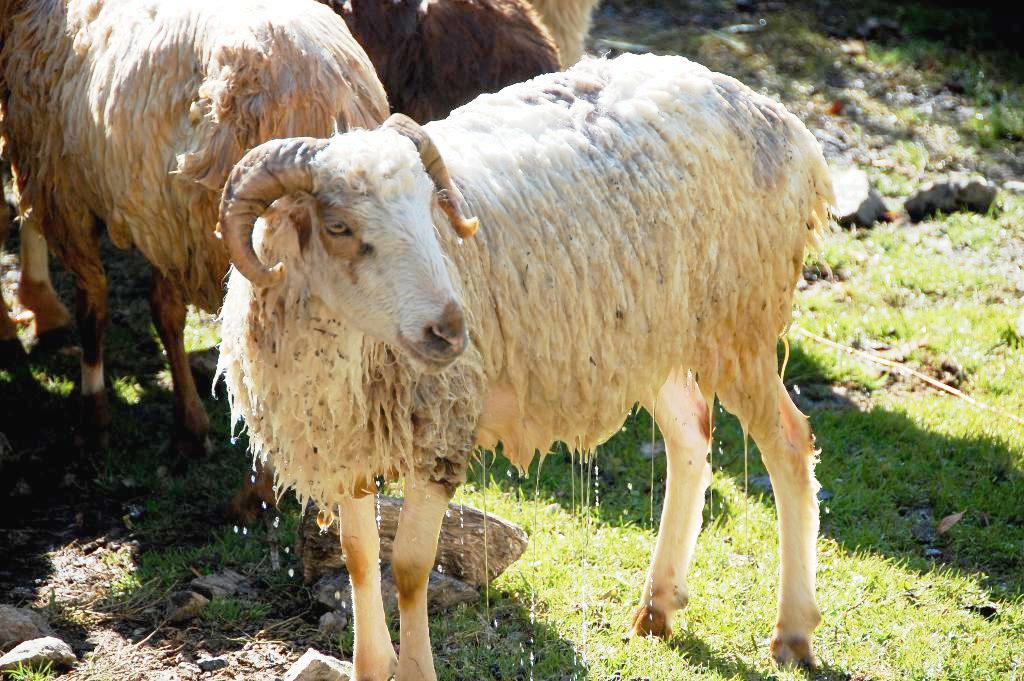Sheep: (217, 60, 820, 656), (0, 0, 391, 469)
